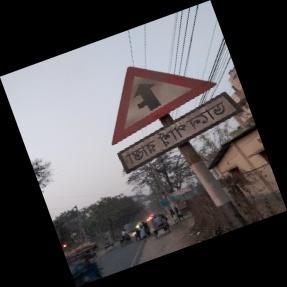Side-road-right: (109, 60, 242, 174)
